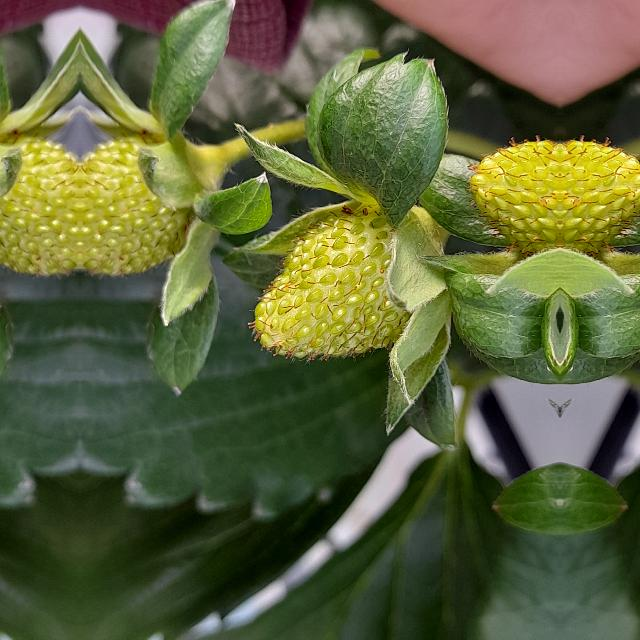Health_25: (246, 208, 409, 364), (80, 132, 218, 298), (458, 130, 560, 280), (0, 132, 80, 298), (560, 130, 640, 280)
